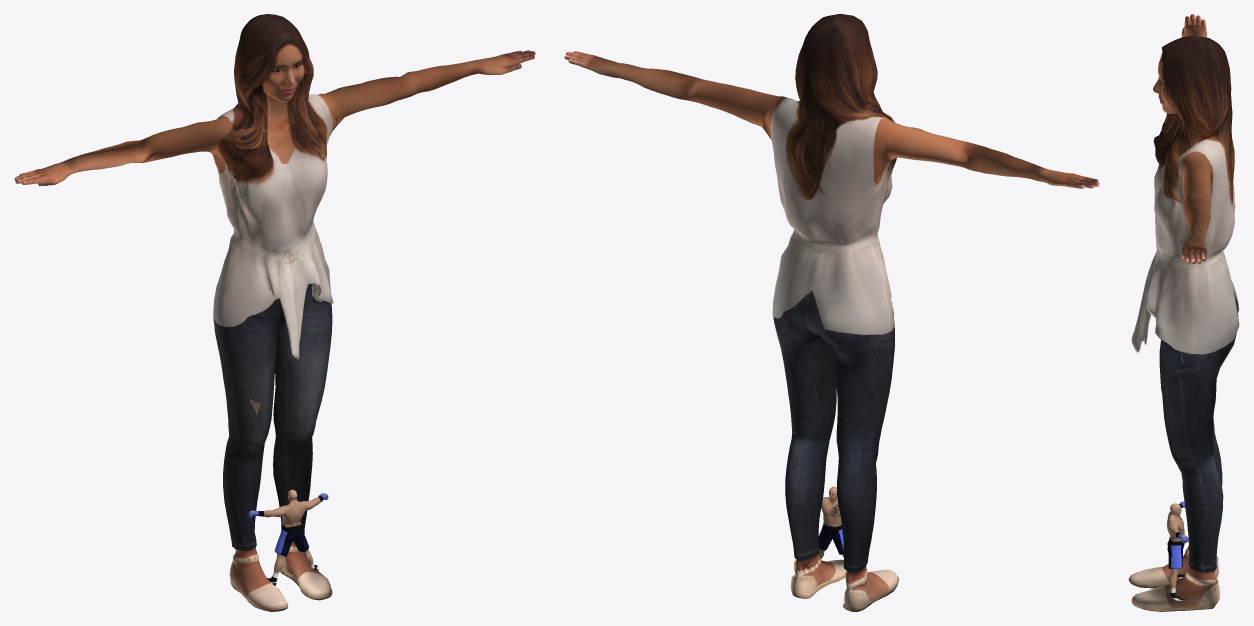
The model's file is Project Name (1).glb.
The picture shows the model from 3 angles, left to right: view 1: azimuth 30°, elevation 25°; view 2: azimuth 150°, elevation 25°; view 3: azimuth 270°, elevation 25°; orthographic projection. The views are drawn at different scales.
Visible parts, largest first — view 1: rp_sophia_animated_003_idling_geo, BOXER.008; view 2: rp_sophia_animated_003_idling_geo, BOXER.008; view 3: rp_sophia_animated_003_idling_geo, BOXER.008.
Part boxes in pixels (box(x1,y1,x2,y2)): rp_sophia_animated_003_idling_geo: box(14, 14, 535, 611); BOXER.008: box(248, 489, 328, 585); rp_sophia_animated_003_idling_geo: box(564, 14, 1099, 611); BOXER.008: box(818, 486, 843, 559); rp_sophia_animated_003_idling_geo: box(1128, 14, 1239, 611); BOXER.008: box(1167, 501, 1187, 600).
Bounding box in the file's own units: 1.66 × 1.72 × 0.312.
Materials: 8 (8 with a texture image).
